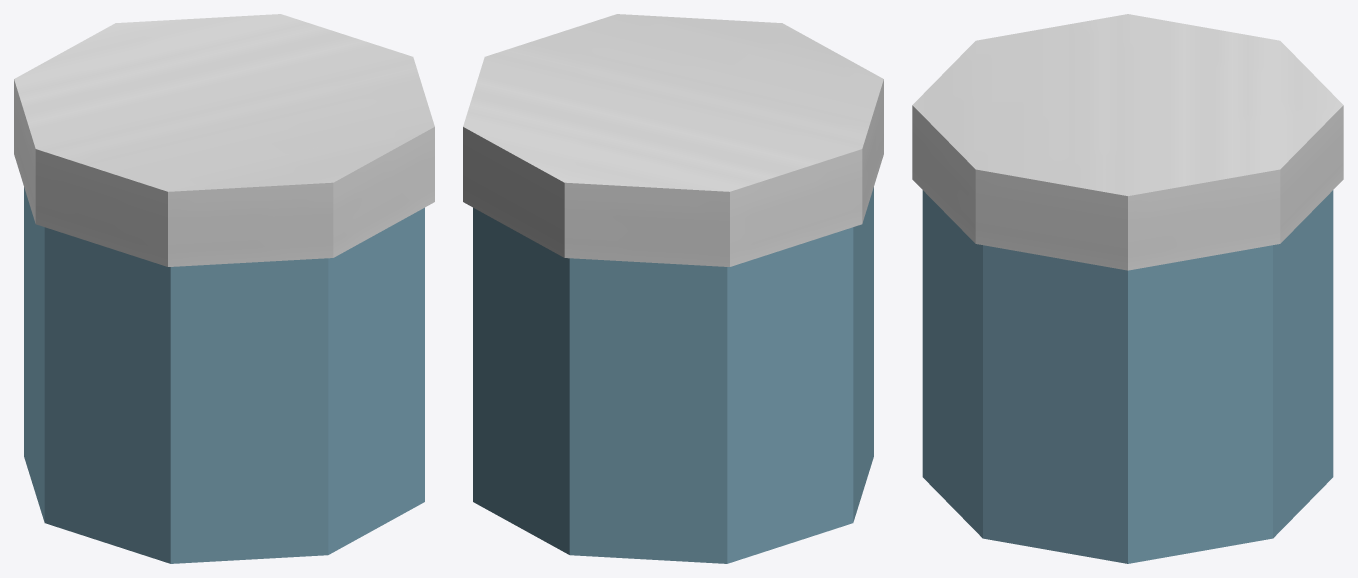
File: drug_luciferium.obj
The picture shows the model from 3 angles, left to right: view 1: azimuth 30°, elevation 25°; view 2: azimuth 150°, elevation 25°; view 3: azimuth 270°, elevation 25°; orthographic projection.
Parts seen in each view (by area): view 1: drug_luciferium; view 2: drug_luciferium; view 3: drug_luciferium.
Boxes of the visible parts, left/top/right/bottom form: drug_luciferium: left=14, top=14, right=434, bottom=563; drug_luciferium: left=463, top=14, right=883, bottom=563; drug_luciferium: left=912, top=14, right=1343, bottom=563.
Size of the model in its own units: 0.21 by 0.2 by 0.21.
